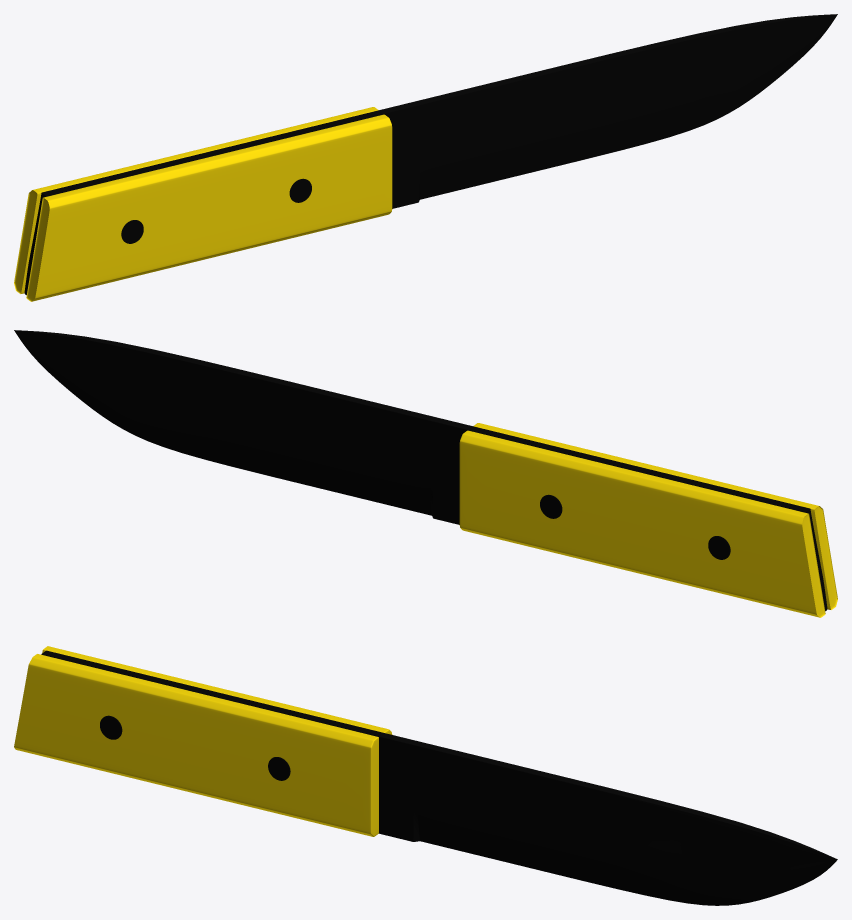
The model's file is knife_hi.fbx.
The picture shows the model from 3 angles, top to bottom: view 1: azimuth 30°, elevation 25°; view 2: azimuth 150°, elevation 25°; view 3: azimuth 330°, elevation 25°; orthographic projection.
Visible parts, largest first — view 1: A1_hi, B1_hi, C1_hi; view 2: A1_hi, B1_hi, C1_hi; view 3: A1_hi, B1_hi, C1_hi.
Part boxes in pixels (x1,y1,x2,y2): A1_hi: [24, 14, 837, 294]; B1_hi: [14, 107, 392, 301]; C1_hi: [121, 178, 311, 243]; A1_hi: [14, 330, 827, 610]; B1_hi: [459, 423, 837, 617]; C1_hi: [540, 494, 730, 559]; A1_hi: [41, 650, 837, 905]; B1_hi: [14, 646, 392, 836]; C1_hi: [100, 715, 290, 780].
Bounding box in the file's own units: 1755 × 200 × 82.05.
